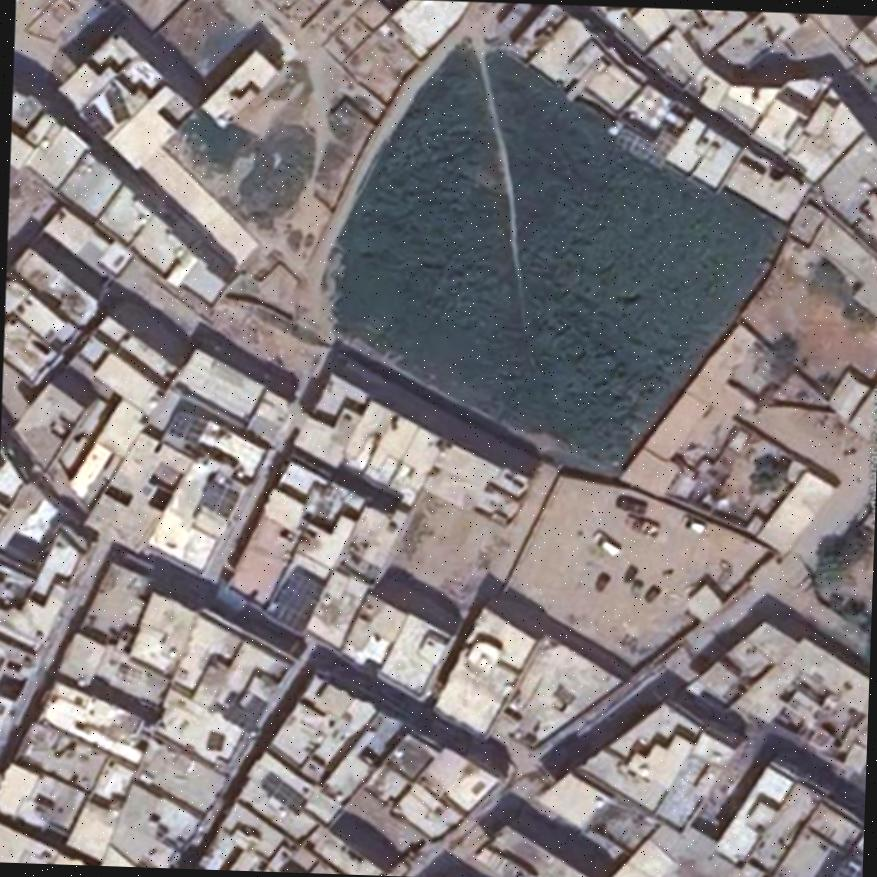Solarpanel: (270, 571, 321, 634), (617, 113, 677, 164), (258, 770, 306, 815), (199, 480, 235, 518), (86, 107, 111, 135), (105, 88, 126, 121), (837, 865, 861, 877)
